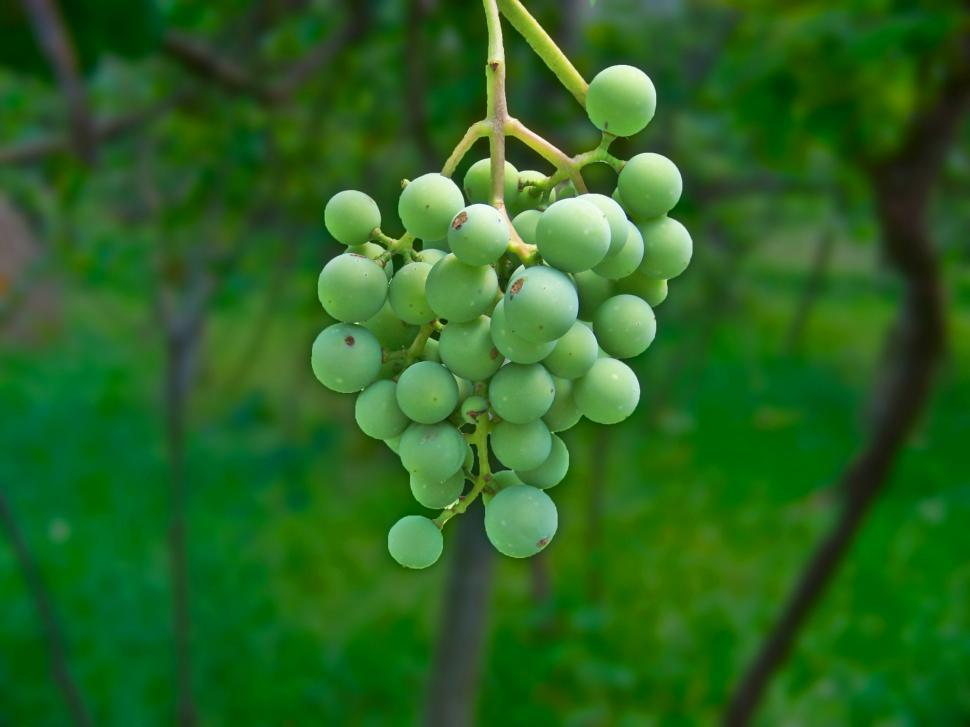grapes: (290, 104, 723, 584)
